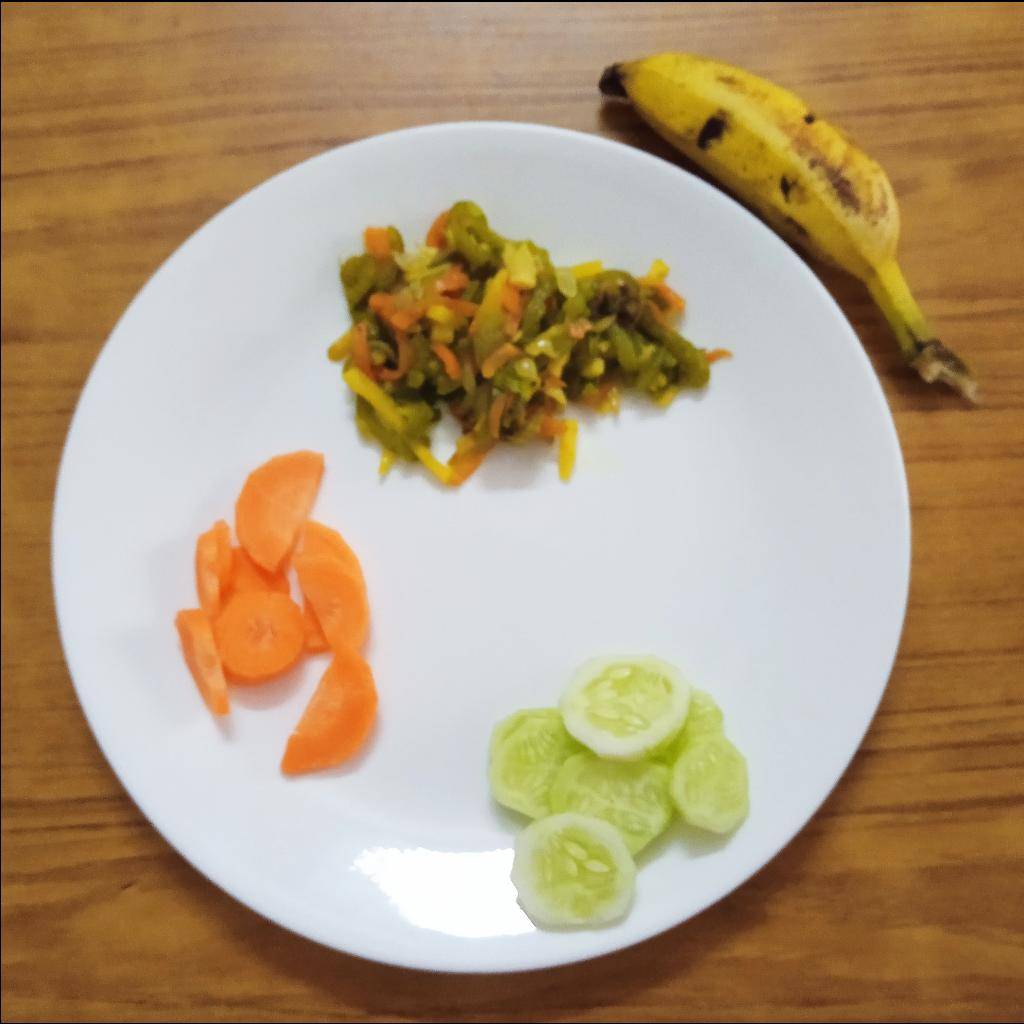banana: (598, 50, 941, 358)
carrot: (178, 449, 378, 778)
cucumber: (486, 651, 750, 930)
vegetable: (325, 197, 715, 491)
